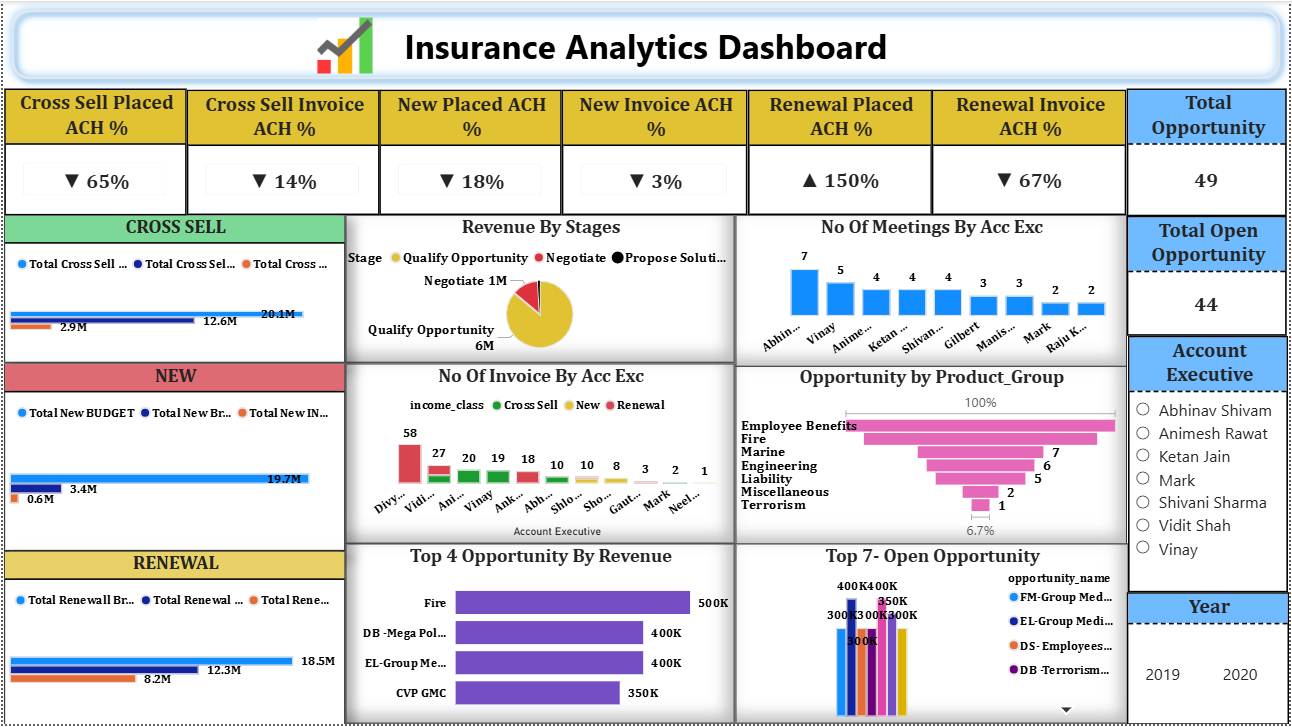

The dashboard page shown, as its layout file describes it:
{"tool":"powerbi","page":{"name":"Page 1","canvas":[1280,720],"ordinal":0},"visuals":[{"type":"shape","box":[0,0,1279.7,86.6],"z":0},{"type":"pieChart","title":"Revenue By Stages","fields":{"Category":["Opportunity.stage"],"Y":["Sum(Opportunity.revenue_amount)"]},"box":[341.2,213.3,387.5,147.5],"z":1000},{"type":"image","box":[229.4,15.9,223.6,56.3],"z":2000},{"type":"funnel","title":"Opportunity by Product_Group","fields":{"Category":["Opportunity.product_group"],"Y":["CountNonNull(Opportunity.opportunity_name)"]},"box":[728.7,362.6,389.2,179.5],"z":3000},{"type":"barChart","title":"Top 4 Opportunity By Revenue","fields":{"Category":["Opportunity.opportunity_name"],"Y":["Sum(Opportunity.revenue_amount)"]},"box":[341.2,540.3,387.5,179.5],"z":4000},{"type":"clusteredColumnChart","title":"Top 7- Open Opportunity","fields":{"Category":["Opportunity.stage"],"Series":["Opportunity.opportunity_name"],"Y":["Sum(Opportunity.revenue_amount)"]},"box":[728.7,540.3,391,179.5],"z":5000},{"type":"columnChart","title":"No Of Invoice By Acc Exc","fields":{"Category":["Invoice.Account Executive"],"Series":["Invoice.income_class"],"Y":["CountNonNull(Invoice.invoice_date)"]},"box":[341.2,360.8,387.5,179.5],"z":6000},{"type":"clusteredColumnChart","title":"No Of Meetings By Acc Exc","fields":{"Category":["Meeting.Account Executive"],"Y":["CountNonNull(Meeting.meeting_date)"]},"box":[728.7,213.3,389.2,151.1],"z":7000},{"type":"listSlicer","fields":{"Values":["Emp.Account Executive"]},"box":[1119.8,333.4,159.5,255.5],"z":9000},{"type":"clusteredBarChart","title":"CROSS SELL","fields":{"Y":["Budget.Total Cross Sell BUDGET","Brokerage.Total Cross Sell Brokerage","Invoice.Total Cross Sell INVOICE"]},"box":[1.8,213.3,339.5,147.5],"z":11000},{"type":"clusteredBarChart","title":"NEW","fields":{"Y":["Budget.Total New BUDGET","Brokerage.Total New Brokerage","Invoice.Total New INVOICE"]},"box":[1.8,360.8,339.5,186.6],"z":14000},{"type":"clusteredBarChart","title":"RENEWAL","fields":{"Y":["Brokerage.Total Renewall Brokerage","Budget.Total Renewal BUDGET","Invoice.Total Renewal INVOICE"]},"box":[1.8,547.4,339.5,174.2],"z":15000},{"type":"cardVisual","title":"Cross Sell Placed ACH %","fields":{"Data":["Emp.Cross Sell Placed KPI"]},"box":[1.8,87.1,181.3,126.2],"z":15001},{"type":"cardVisual","title":"Cross Sell Invoice ACH %","fields":{"Data":["Emp.Cross Sell Invoice KPI"]},"box":[183.1,88.9,192,124.4],"z":15002},{"type":"cardVisual","title":"New Placed ACH %","fields":{"Data":["Emp.New Placed ACH KPI"]},"box":[375,88.9,181.3,124.4],"z":15003},{"type":"cardVisual","title":"New Invoice ACH %","fields":{"Data":["Emp.New Invoice ACH KPI"]},"box":[556.3,88.9,184.8,124.4],"z":15004},{"type":"cardVisual","title":"Renewal Placed ACH %","fields":{"Data":["Emp.Renewal Placed ACH KPI"]},"box":[741.1,88.9,183.1,124.4],"z":15005},{"type":"cardVisual","title":"Renewal Invoice ACH %","fields":{"Data":["Emp.Renewal Invoice ach KPI"]},"box":[924.2,88.9,193.7,124.4],"z":15006},{"type":"cardVisual","title":"Total Opportunity","fields":{"Data":["Opportunity.Total Opportunity"]},"box":[1118,87,159.5,126.8],"z":15007},{"type":"cardVisual","title":"Total Open Opportunity","fields":{"Data":["Opportunity.Total Open Opportunity"]},"box":[1118,213.8,159.5,119.6],"z":15008},{"type":"advancedSlicerVisual","fields":{"Values":["Year.Year"]},"box":[1118,588.9,161.3,132.3],"z":15009}]}

Visuals, with their boxes in screenshot pixels (x1, y1, x2, y2), scaled from the page's 1280x720 canvas onto the 1292x727 screenshot:
shape: 0 0 1291 87
"Revenue By Stages" pieChart: 344 215 736 364
image: 232 16 457 73
"Opportunity by Product_Group" funnel: 736 366 1128 547
"Top 4 Opportunity By Revenue" barChart: 344 546 736 726
"Top 7- Open Opportunity" clusteredColumnChart: 736 546 1130 726
"No Of Invoice By Acc Exc" columnChart: 344 364 736 546
"No Of Meetings By Acc Exc" clusteredColumnChart: 736 215 1128 368
listSlicer - Emp.Account Executive: 1130 337 1291 595
"CROSS SELL" clusteredBarChart: 2 215 344 364
"NEW" clusteredBarChart: 2 364 344 553
"RENEWAL" clusteredBarChart: 2 553 344 726
"Cross Sell Placed ACH %" cardVisual: 2 88 185 215
"Cross Sell Invoice ACH %" cardVisual: 185 90 379 215
"New Placed ACH %" cardVisual: 379 90 562 215
"New Invoice ACH %" cardVisual: 562 90 748 215
"Renewal Placed ACH %" cardVisual: 748 90 933 215
"Renewal Invoice ACH %" cardVisual: 933 90 1128 215
"Total Opportunity" cardVisual: 1128 88 1289 216
"Total Open Opportunity" cardVisual: 1128 216 1289 337
advancedSlicerVisual - Year.Year: 1128 595 1291 726
